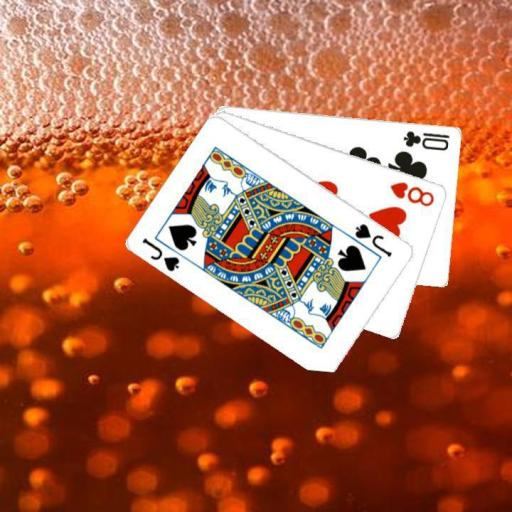card-corner: (352, 220, 394, 259), (139, 235, 182, 273), (387, 178, 436, 208), (400, 128, 452, 152)
